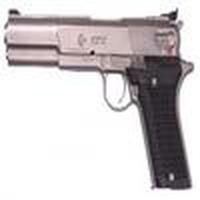gun: (3, 5, 189, 199)
